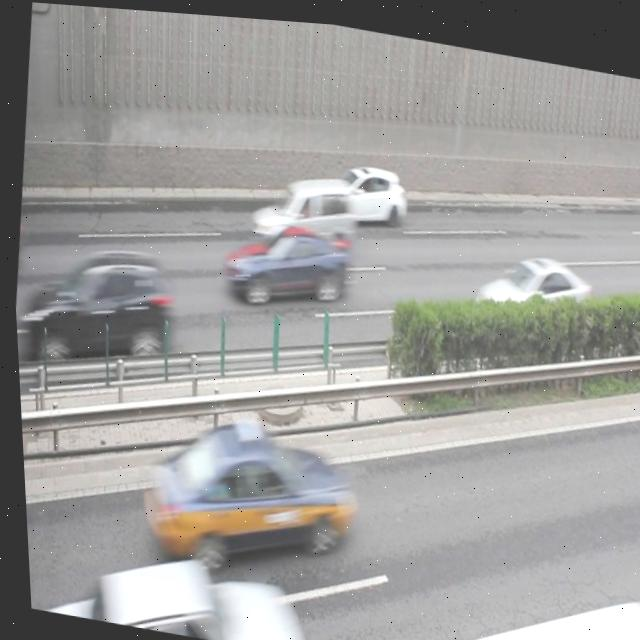car: (134, 403, 362, 584), (48, 533, 305, 640), (18, 234, 176, 375), (213, 208, 350, 312), (464, 237, 591, 341), (243, 158, 357, 254), (314, 151, 409, 225)
truck: (439, 556, 640, 640)
